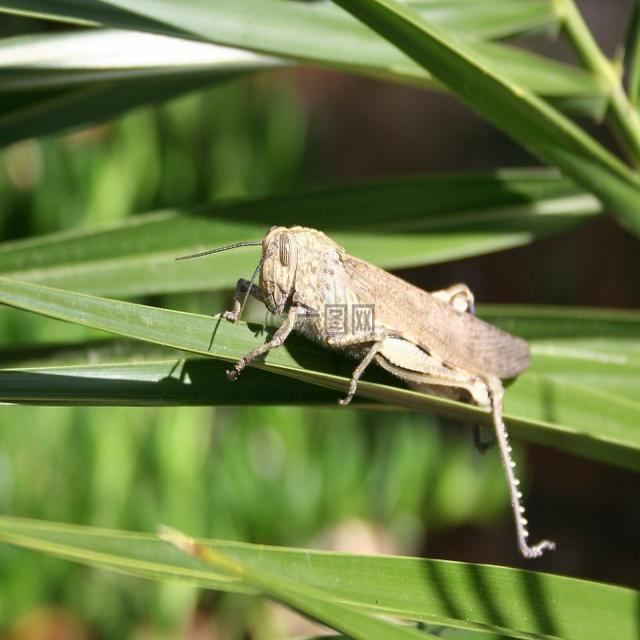ZhaMeng: (210, 217, 570, 566)
